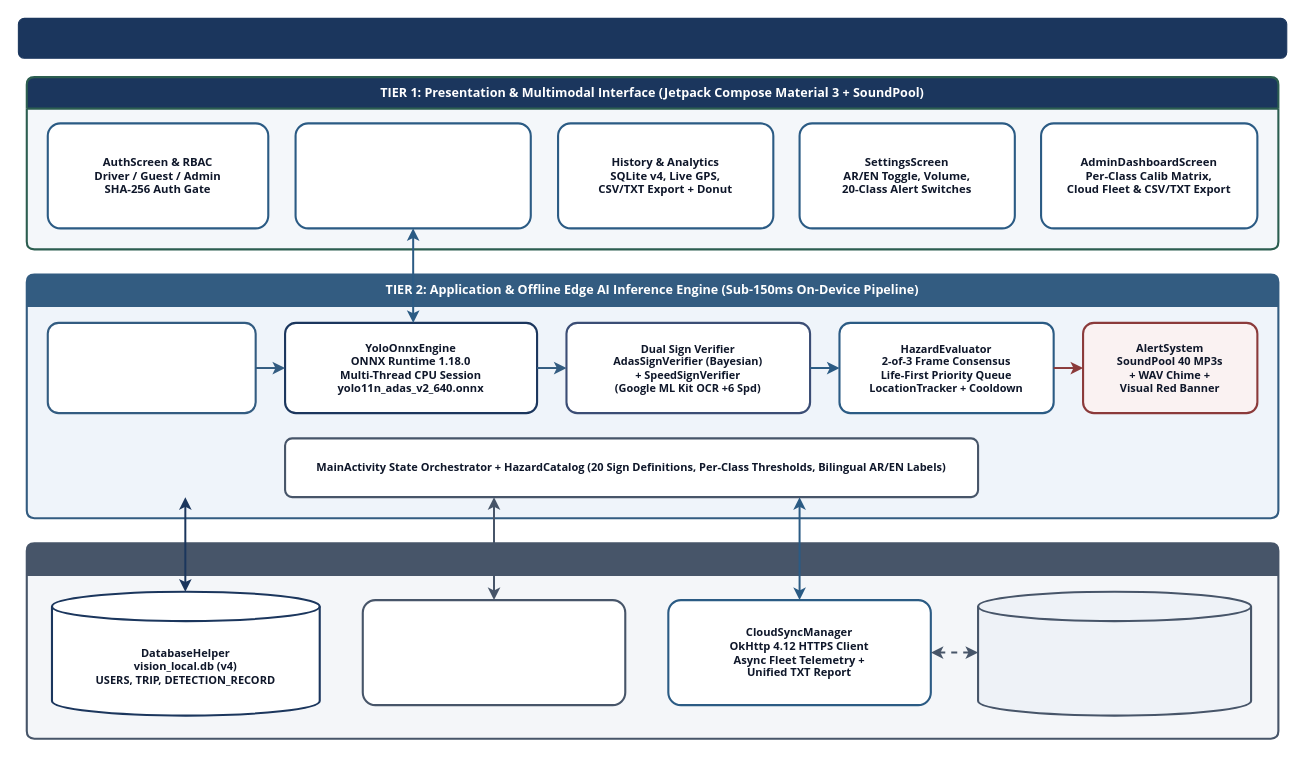
The diagram is 1305 pixels wide and 758 high, and some of its shapes have lost their labels. The shapes that lost their labels are listed below. From the top down, each one's box as (x1, y1, x2, y2) in pixels, then its label:
(17, 17, 1287, 58): VISION 3-Tier & Edge-Cloud Hybrid System Architecture
(294, 122, 531, 229): DashboardScreen + HUD CameraX Preview, BBox, Red Alert Banner + Latency
(46, 321, 256, 414): CameraManager CameraX 1.4.1 ImageAnalysis YuvToRgb + Rotation
(361, 598, 626, 706): PreferencesManager, LocationTracker & Export Native GPS + CSV/TXT Share
(25, 542, 1279, 739): TIER 3: Persistence, Location, Export & Cloud Synchronization
(976, 590, 1252, 716): Firebase Realtime DB (Optional Cloud Mirror) fleet_telemetry & summaries
